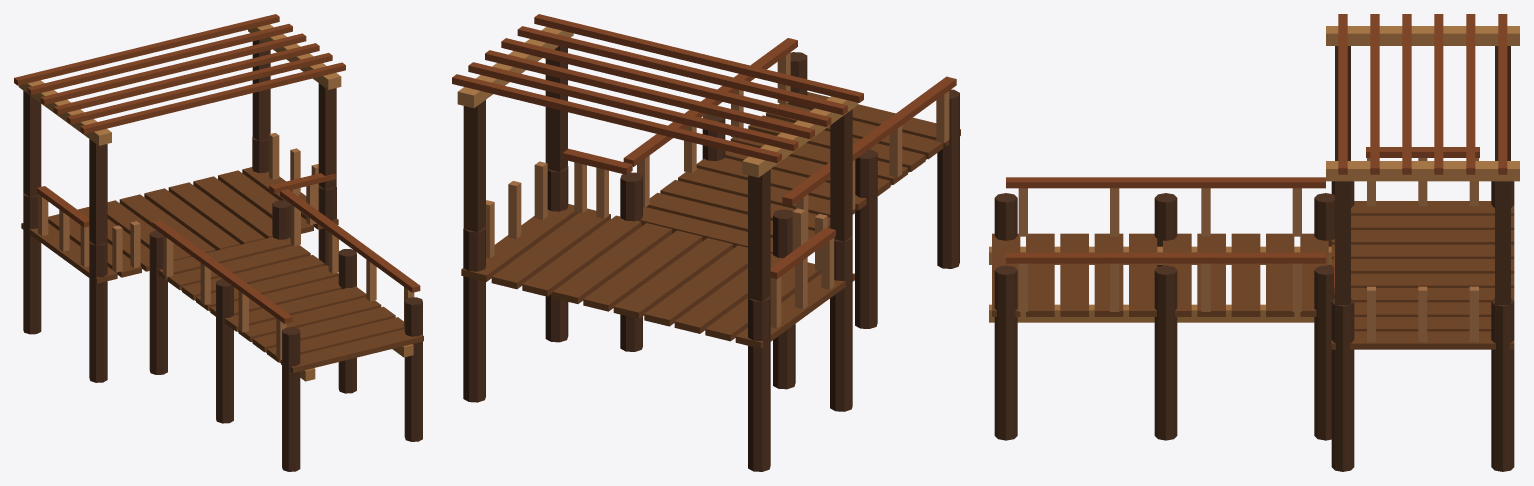
The model's file is Docklvl3.fbx.
The picture shows the model from 3 angles, left to right: view 1: azimuth 30°, elevation 25°; view 2: azimuth 150°, elevation 25°; view 3: azimuth 270°, elevation 25°; orthographic projection. The views are drawn at different scales.
Visible parts, largest first — view 1: DESZKAK; view 2: DESZKAK; view 3: DESZKAK.
Boxes of the visible parts, box(x1,y1,x2,y2) form: DESZKAK: box(14, 14, 423, 471); DESZKAK: box(452, 14, 960, 471); DESZKAK: box(989, 14, 1519, 471).
Size of the model in its own units: 3.2 by 2.98 by 4.65.
1 material, 1 textured.
